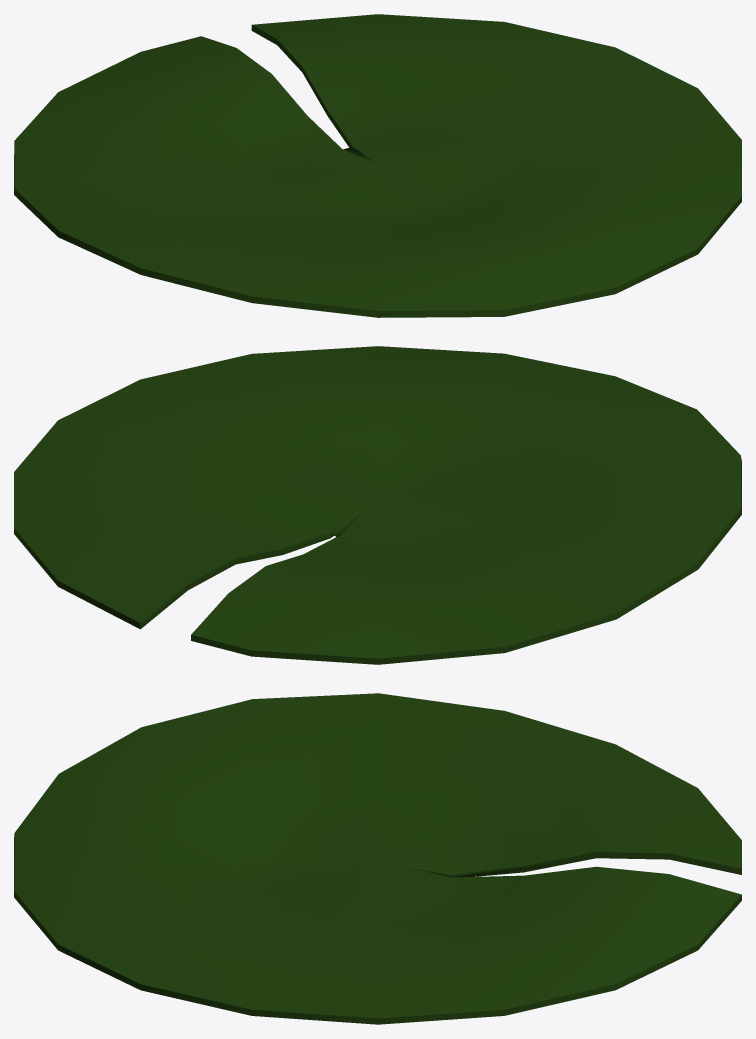
File: LillyPad02.fbx
The picture shows the model from 3 angles, top to bottom: view 1: azimuth 30°, elevation 25°; view 2: azimuth 150°, elevation 25°; view 3: azimuth 270°, elevation 25°; orthographic projection.
Visible parts, largest first — view 1: Cylinder001; view 2: Cylinder001; view 3: Cylinder001.
Boxes of the visible parts, x1,y1,x2,y2 form: Cylinder001: (14, 14, 741, 317); Cylinder001: (14, 346, 741, 664); Cylinder001: (14, 693, 741, 1024).
Size of the model in its own units: 146 by 8.05 by 144.
